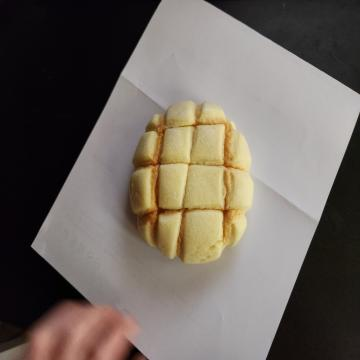melon_bread: (128, 100, 253, 266)
